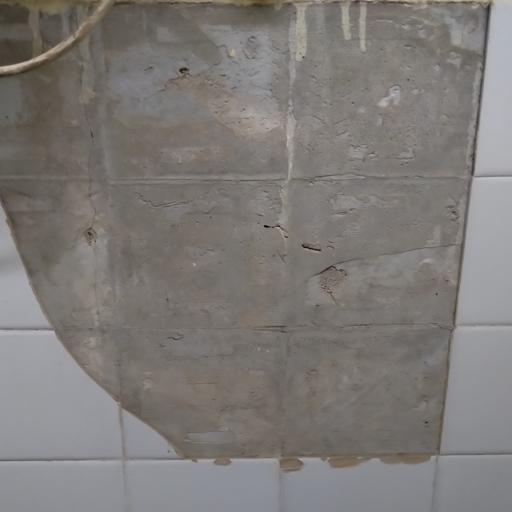spalling: (4, 0, 456, 478)
